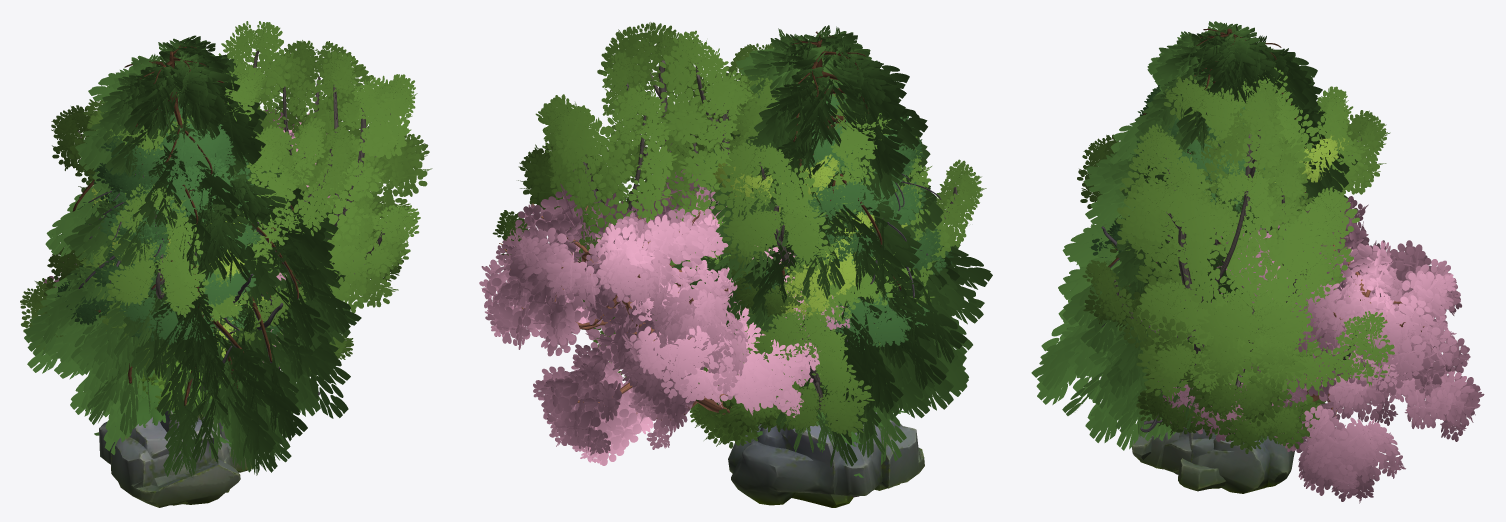
File: nature.glb
3 renders of one model, left to right at view 1: azimuth 30°, elevation 25°; view 2: azimuth 150°, elevation 25°; view 3: azimuth 270°, elevation 25°, orthographic. The views are drawn at different scales.
Visible parts, largest first — view 1: GiantPine_3, GiantPine_1, TwistedTree_1, TwistedTree_3, TallThick_1, Rock_Big_2, TallThick_2, Pine_4, Rock_Big_1; view 2: CherryBlossom_2, TwistedTree_1, GiantPine_1, TwistedTree_3, GiantPine_3, Rock_Big_2, TallThick_1, TallThick_2, Birch_5, Birch_1, Rock_Medium_4; view 3: TwistedTree_1, CherryBlossom_2, GiantPine_3, GiantPine_1, TwistedTree_3, Rock_Big_2, Rock_Big_1, TallThick_2, Birch_5, TallThick_1, Rock_Medium_3.
Part boxes in pixels (x1,y1,x2,y2): GiantPine_3: [24, 164, 361, 476]; GiantPine_1: [45, 35, 293, 472]; TwistedTree_1: [177, 21, 432, 376]; TwistedTree_3: [20, 60, 358, 370]; TallThick_1: [55, 106, 283, 344]; Rock_Big_2: [99, 402, 240, 507]; TallThick_2: [86, 92, 269, 266]; Pine_4: [125, 367, 228, 423]; Rock_Big_1: [160, 410, 251, 505]; CherryBlossom_2: [479, 169, 850, 465]; TwistedTree_1: [492, 22, 859, 497]; GiantPine_1: [690, 25, 963, 464]; TwistedTree_3: [684, 40, 986, 448]; GiantPine_3: [672, 148, 992, 467]; Rock_Big_2: [728, 412, 924, 505]; TallThick_1: [709, 93, 953, 351]; TallThick_2: [731, 79, 924, 232]; Birch_5: [713, 163, 875, 318]; Birch_1: [779, 154, 839, 211]; Rock_Medium_4: [792, 492, 853, 507]; TwistedTree_1: [1082, 82, 1394, 474]; CherryBlossom_2: [1158, 196, 1484, 503]; GiantPine_3: [1031, 141, 1339, 437]; GiantPine_1: [1085, 21, 1357, 450]; TwistedTree_3: [1077, 67, 1390, 443]; Rock_Big_2: [1132, 426, 1294, 493]; Rock_Big_1: [1178, 426, 1230, 491]; TallThick_2: [1134, 85, 1306, 210]; Birch_5: [1299, 134, 1350, 182]; TallThick_1: [1090, 83, 1275, 289]; Rock_Medium_3: [1138, 431, 1180, 469].
Size of the model in its own units: 17.26 by 17.4 by 16.33.
Materials: 18 (18 with a texture image).
